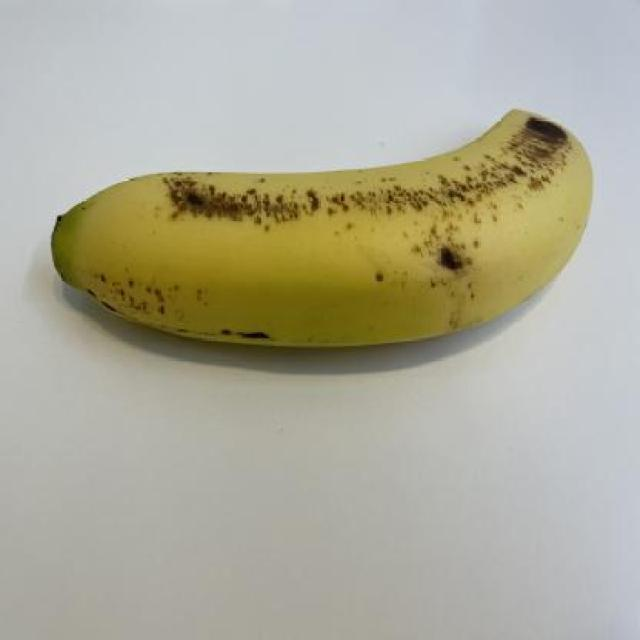Banana: (52, 106, 596, 351)
